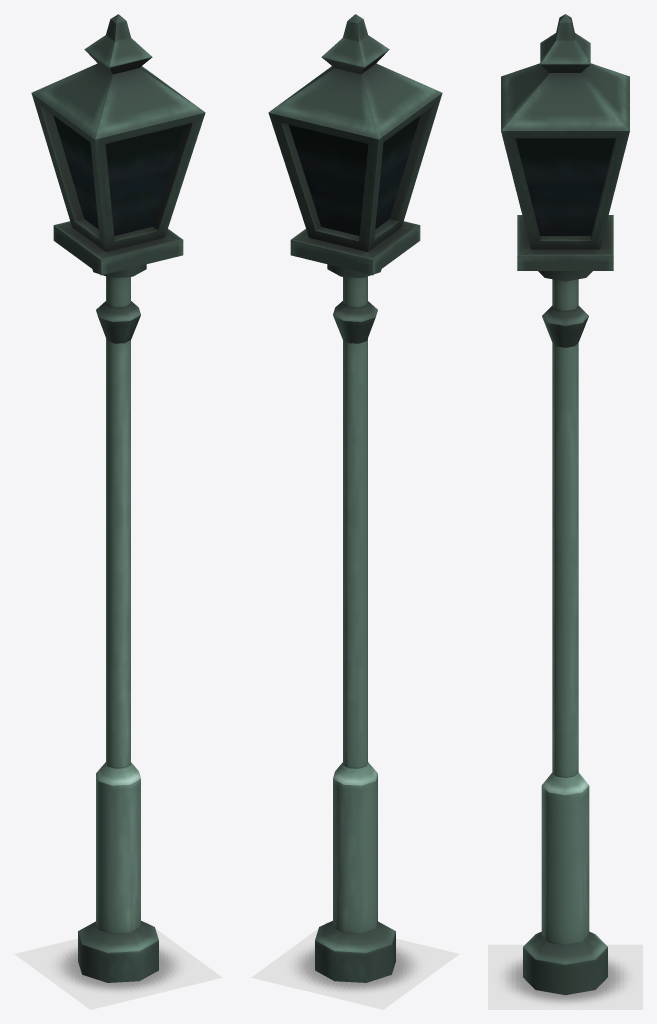
The model's file is Street Light 1.fbx.
The picture shows the model from 3 angles, left to right: view 1: azimuth 30°, elevation 25°; view 2: azimuth 150°, elevation 25°; view 3: azimuth 270°, elevation 25°; orthographic projection.
Visible parts, largest first — view 1: StreetLight, glass, shadow1; view 2: StreetLight, glass, shadow1; view 3: StreetLight, glass, shadow1.
Boxes of the visible parts, box(x1,y1,x2,y2) form: StreetLight: box(31, 14, 205, 982); glass: box(53, 115, 184, 235); shadow1: box(14, 922, 222, 1009); StreetLight: box(268, 14, 442, 982); glass: box(289, 115, 420, 235); shadow1: box(251, 922, 459, 1009); StreetLight: box(501, 14, 629, 995); glass: box(515, 138, 615, 235); shadow1: box(488, 944, 642, 1009).
Bounding box in the file's own units: 0.45 × 3.1 × 0.45.
